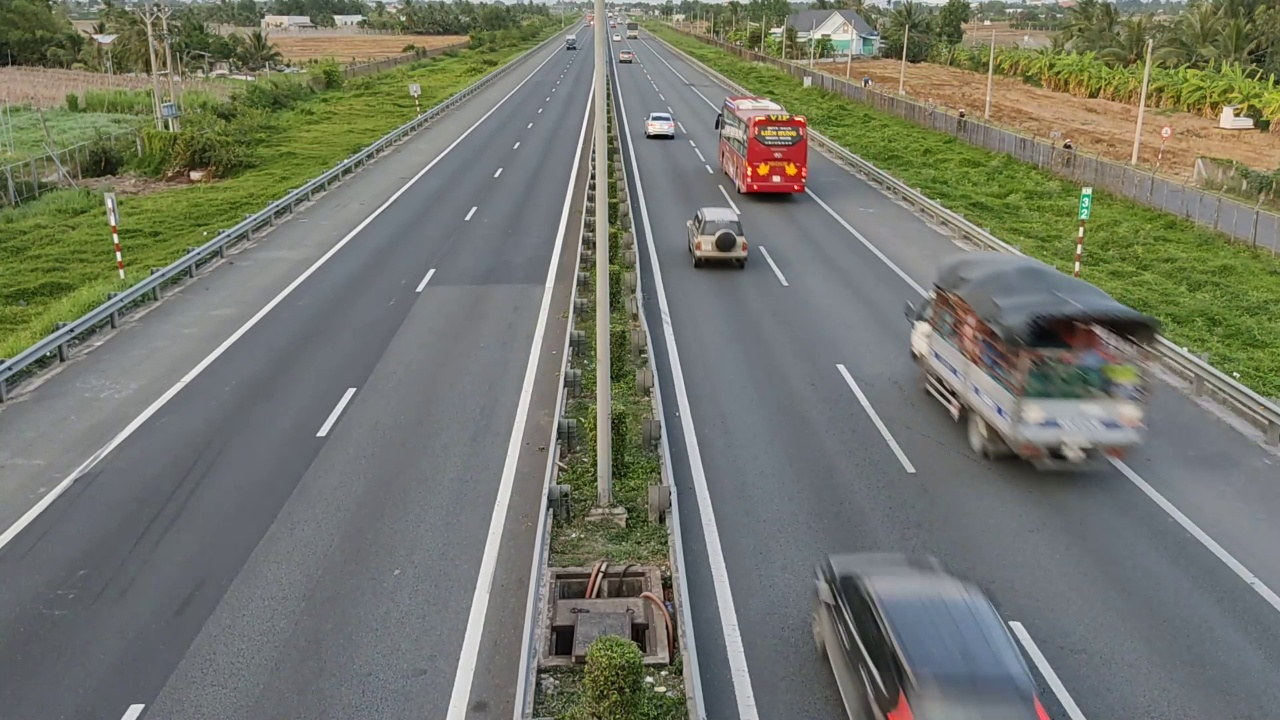bus: (716, 96, 809, 193)
car: (809, 549, 1044, 719), (685, 205, 750, 269), (643, 111, 675, 139)
truck: (909, 243, 1152, 486)
